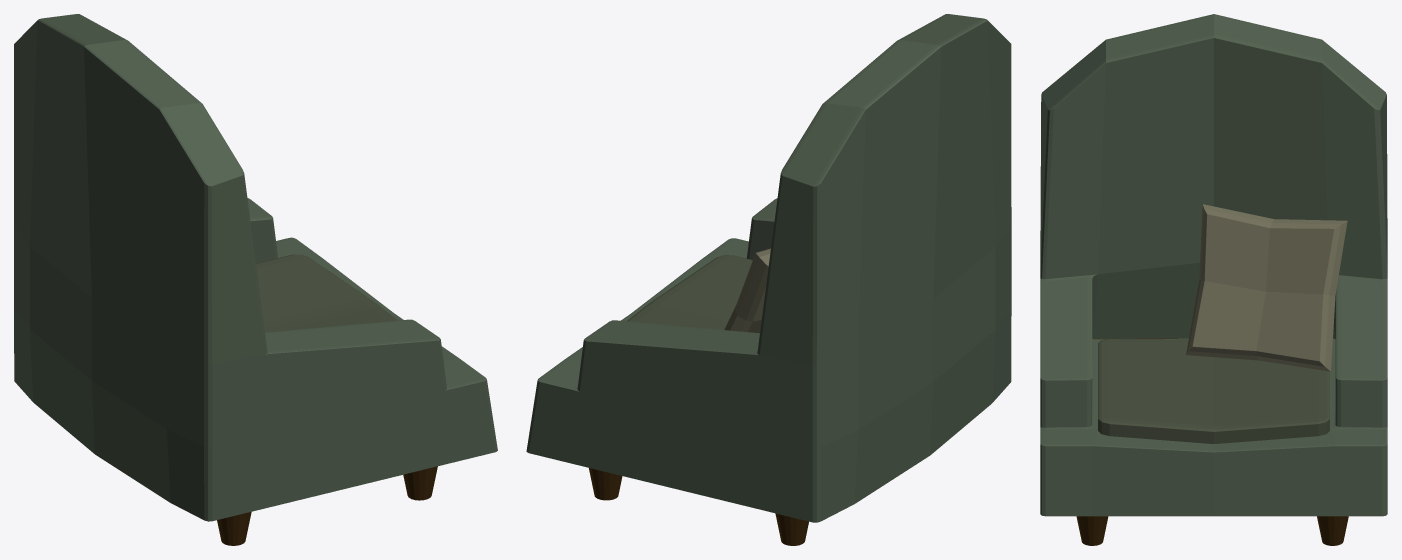
The model's file is Sessel.fbx.
3 renders of one model, left to right at view 1: azimuth 30°, elevation 25°; view 2: azimuth 150°, elevation 25°; view 3: azimuth 270°, elevation 25°, orthographic. The views are drawn at different scales.
Visible parts, largest first — view 1: Sessel; view 2: Sessel; view 3: Sessel.
Part boxes in pixels (bbox=[...]): Sessel: bbox=[14, 14, 497, 545]; Sessel: bbox=[526, 14, 1011, 545]; Sessel: bbox=[1040, 14, 1387, 545].
Size of the model in its own units: 113 by 157 by 120.
